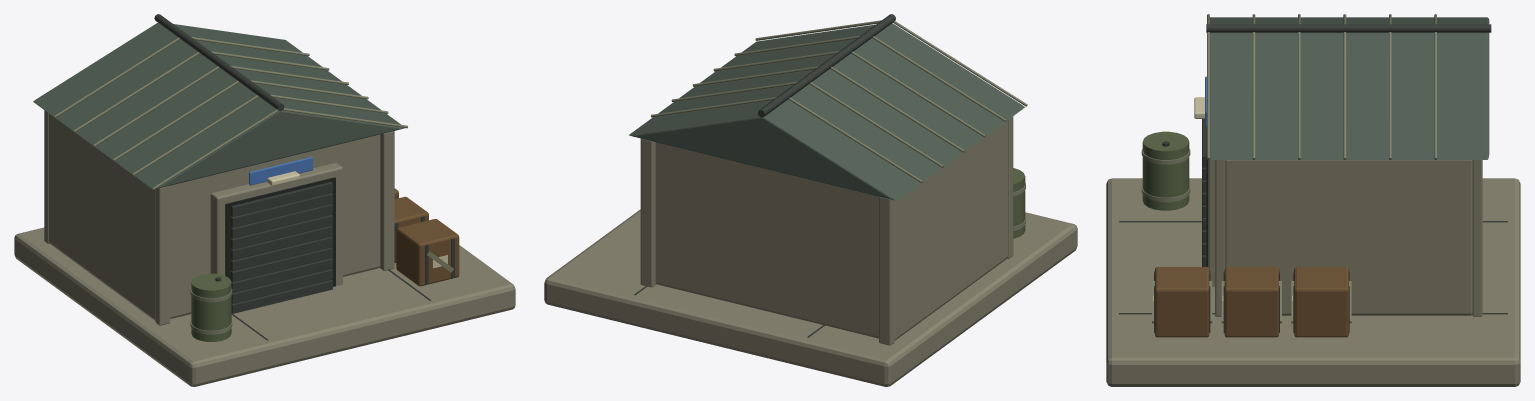
The model's file is supplydepot.glb.
3 renders of one model, left to right at view 1: azimuth 30°, elevation 25°; view 2: azimuth 150°, elevation 25°; view 3: azimuth 270°, elevation 25°, orthographic. The views are drawn at different scales.
Parts seen in each view (by area): view 1: Concrete, RoofMetal, Steel, EdgeSteel, Timber, Armor, Tracks, TeamColor; view 2: Concrete, RoofMetal, EdgeSteel, Steel, Armor; view 3: Concrete, RoofMetal, Timber, Steel, EdgeSteel, Armor.
Boxes of the visible parts, x1,y1,x2,y2 form: Concrete: (14, 110, 515, 386); RoofMetal: (33, 23, 404, 188); Steel: (154, 14, 454, 340); EdgeSteel: (54, 37, 453, 334); Timber: (394, 188, 459, 286); Armor: (191, 273, 231, 341); Tracks: (225, 177, 335, 286); TeamColor: (249, 157, 312, 185); Concrete: (544, 116, 1077, 386); RoofMetal: (629, 23, 1024, 200); EdgeSteel: (651, 20, 1027, 230); Steel: (634, 14, 895, 337); Armor: (1013, 168, 1025, 238); Concrete: (1106, 159, 1520, 386); RoofMetal: (1210, 17, 1489, 159); Timber: (1155, 267, 1348, 337); Steel: (1119, 24, 1507, 332); EdgeSteel: (1141, 14, 1436, 323); Armor: (1142, 131, 1189, 210).
Bounding box in the file's own units: 4.3 × 2.8 × 4.1.
